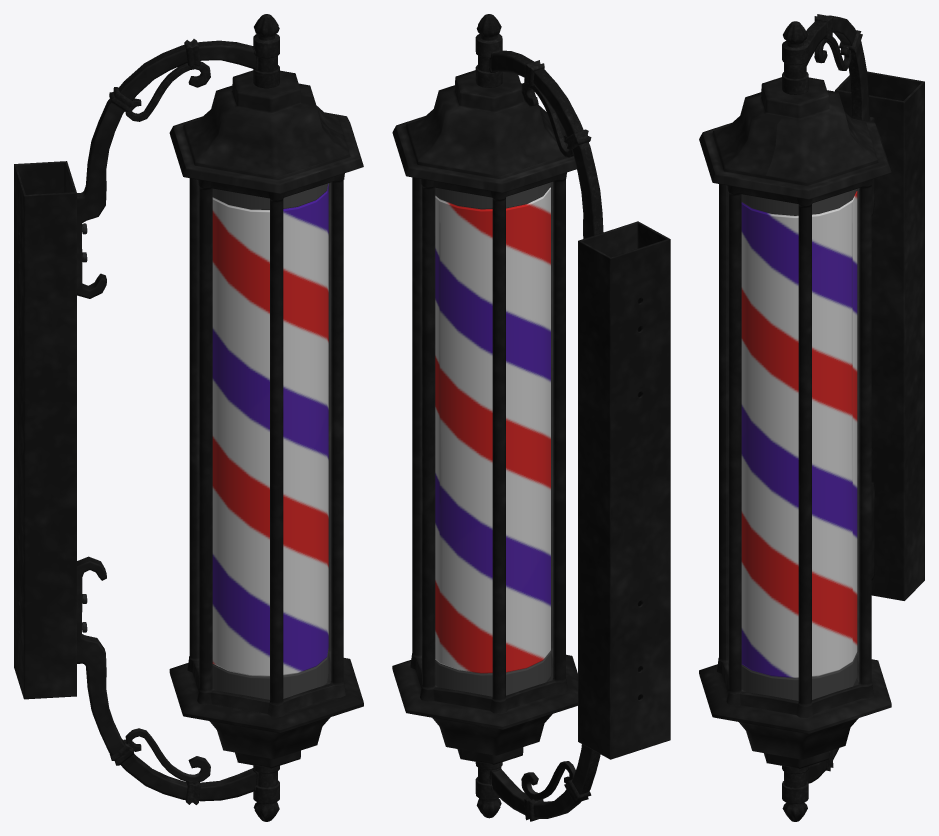
The model's file is Barber_Shop_Pole_02.obj.
3 renders of one model, left to right at view 1: azimuth 30°, elevation 25°; view 2: azimuth 150°, elevation 25°; view 3: azimuth 270°, elevation 25°, orthographic.
Parts seen in each view (by area): view 1: Barber_Shop_Pole_02_001, Barber_Shop_Pole_02_Glass_001; view 2: Barber_Shop_Pole_02_001, Barber_Shop_Pole_02_Glass_001; view 3: Barber_Shop_Pole_02_001, Barber_Shop_Pole_02_Glass_001.
Boxes of the visible parts, x1,y1,x2,y2 form: Barber_Shop_Pole_02_001: [14, 14, 363, 821]; Barber_Shop_Pole_02_Glass_001: [329, 183, 330, 667]; Barber_Shop_Pole_02_001: [392, 14, 670, 821]; Barber_Shop_Pole_02_Glass_001: [551, 182, 552, 663]; Barber_Shop_Pole_02_001: [699, 14, 924, 821]; Barber_Shop_Pole_02_Glass_001: [857, 189, 858, 668].
Size of the model in its own units: 27.92 by 71.12 by 18.2.
3 materials, 3 textured.
